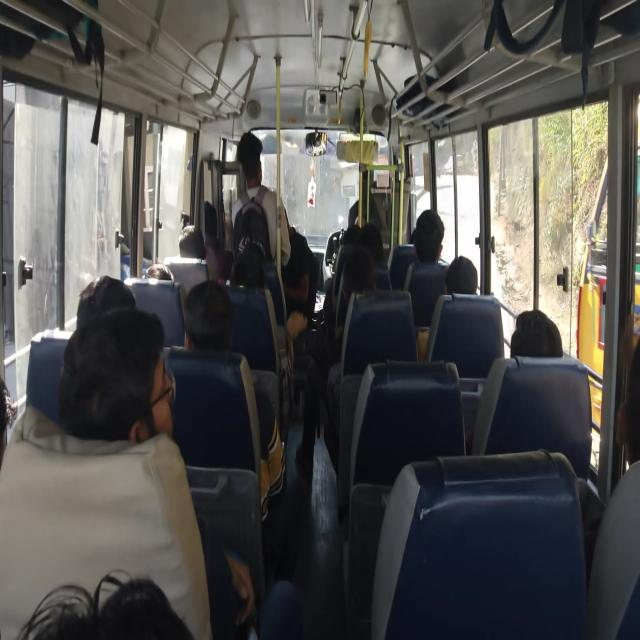person: (5, 545, 166, 640), (62, 311, 178, 438), (583, 340, 640, 468), (0, 376, 44, 471), (79, 279, 135, 337), (193, 270, 233, 350), (282, 222, 313, 320), (498, 312, 546, 369), (238, 132, 272, 199), (237, 248, 273, 302), (415, 214, 449, 267), (345, 257, 385, 301), (448, 248, 482, 299), (146, 249, 175, 299), (356, 219, 383, 263), (182, 228, 212, 267), (198, 202, 228, 228), (246, 232, 272, 258), (406, 222, 426, 238)
